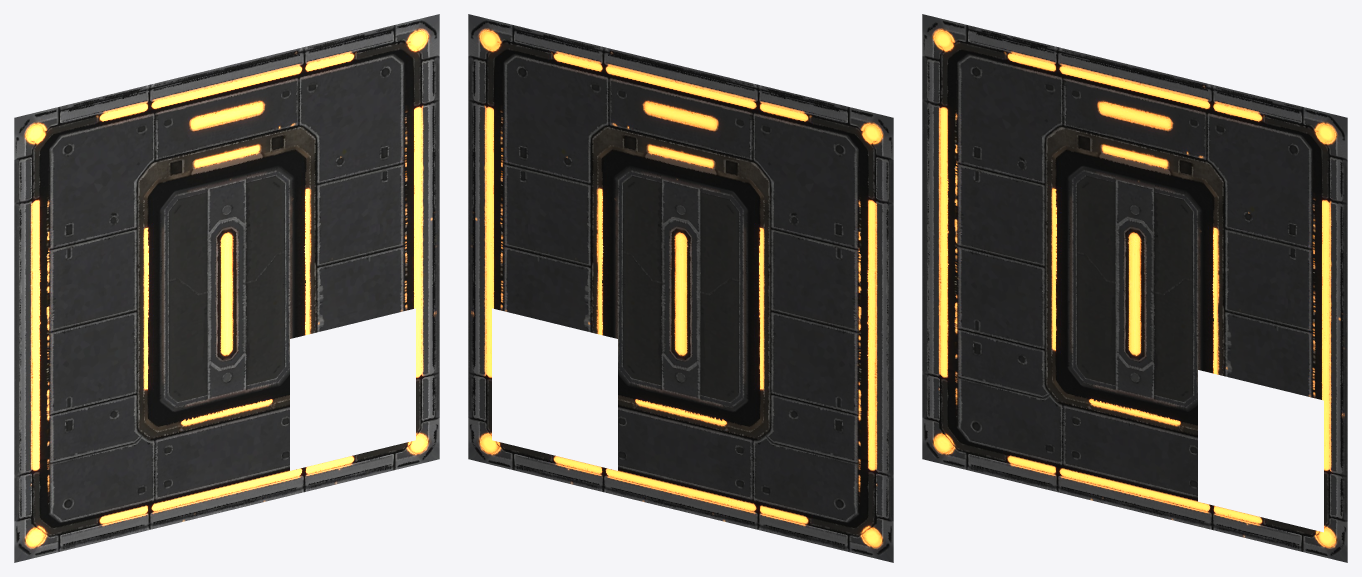
File: cube_floor.glb
The picture shows the model from 3 angles, left to right: view 1: azimuth 30°, elevation 25°; view 2: azimuth 150°, elevation 25°; view 3: azimuth 330°, elevation 25°; orthographic projection.
Bounding box in the file's own units: 5.4 × 5.4 × 0.
Materials: 1 (1 with a texture image).
